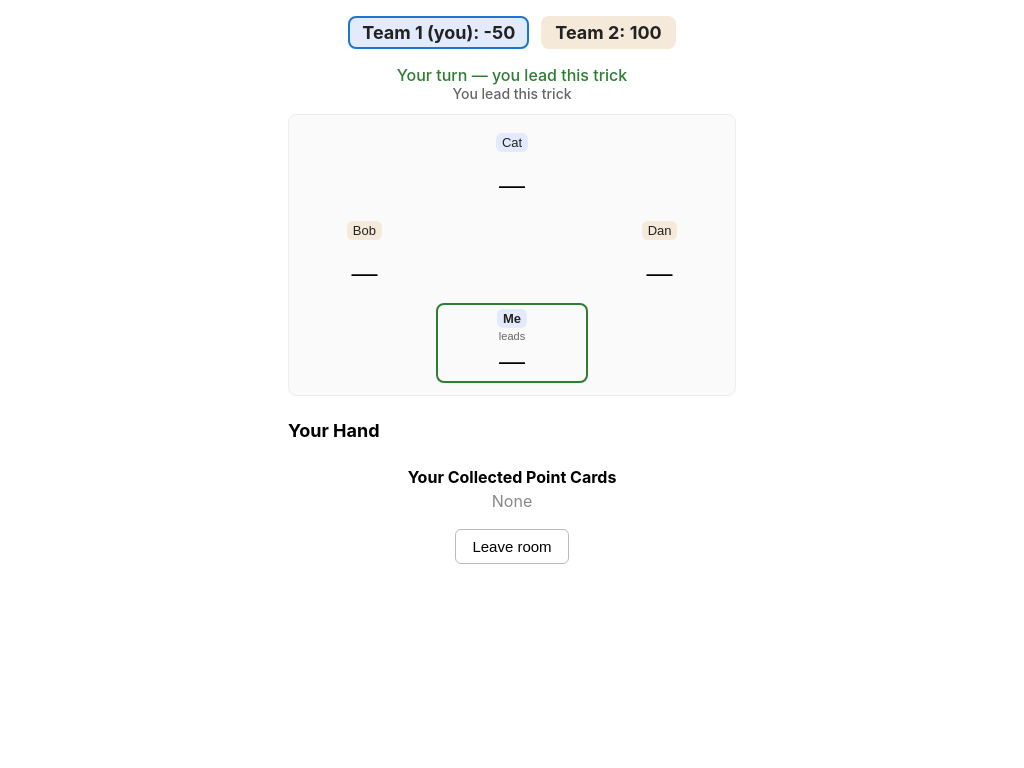
Test: GameTable › shows a player's collected point cards on demand
Click the button with test id "seat-left" at [364, 255], box [301, 215, 428, 295]
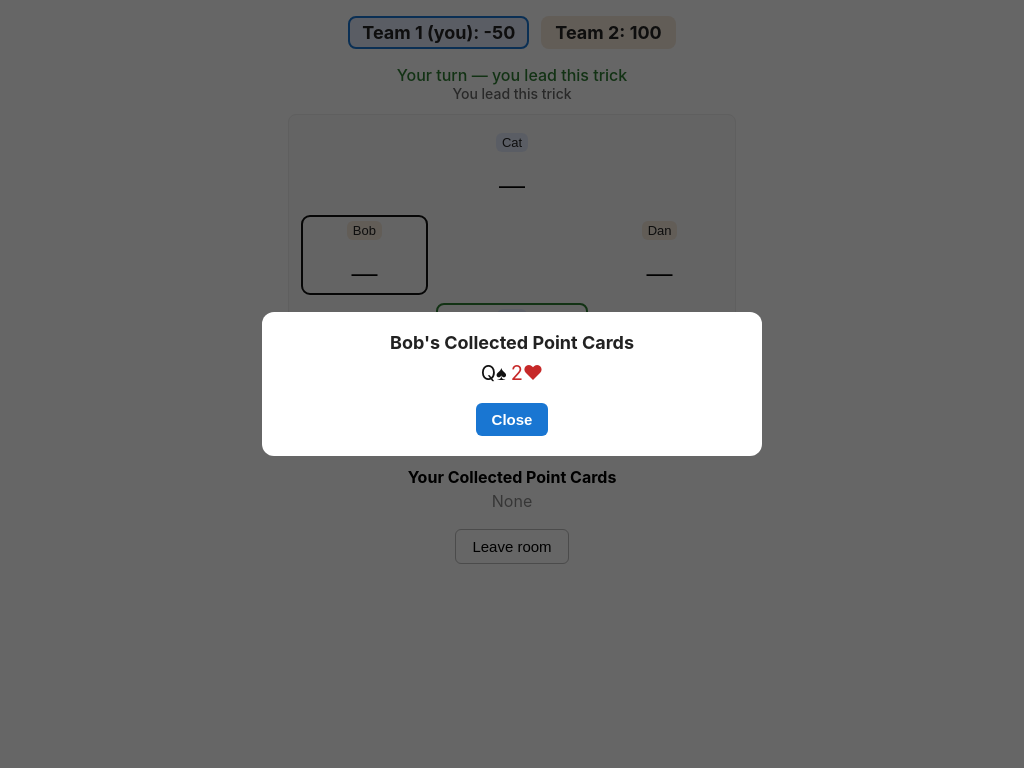
Now the text "Q♠" is shown, box [481, 361, 507, 385]
Now the text "2♥" is shown, box [511, 361, 543, 385]
